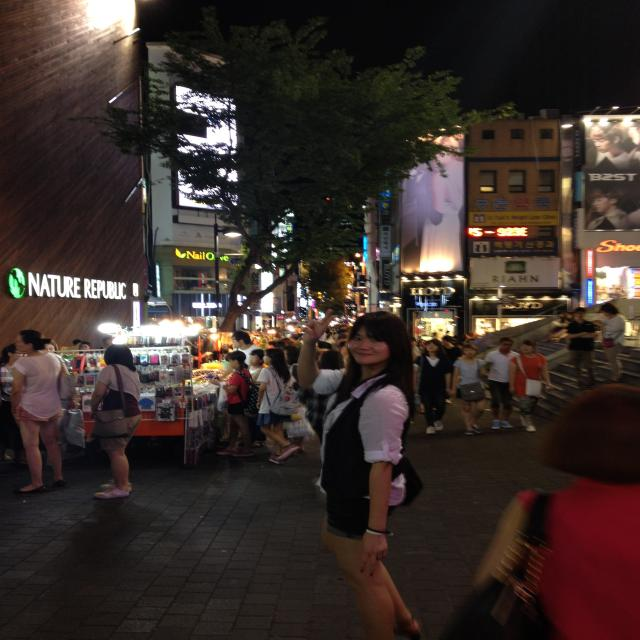body: (462, 382, 640, 640), (295, 305, 430, 640), (7, 328, 81, 496), (560, 118, 640, 229), (90, 343, 143, 501), (402, 134, 461, 273), (204, 350, 257, 458), (254, 347, 302, 465), (508, 339, 554, 434), (411, 337, 451, 436), (448, 342, 489, 436), (0, 341, 28, 465), (484, 337, 520, 429), (590, 301, 628, 386), (564, 306, 598, 387), (247, 348, 265, 448), (313, 320, 350, 368), (231, 330, 262, 366), (541, 310, 573, 344), (183, 334, 215, 368), (72, 337, 118, 353), (284, 325, 303, 362), (442, 330, 462, 360), (266, 324, 285, 347), (452, 331, 484, 342), (410, 338, 427, 357), (39, 338, 59, 354), (431, 331, 441, 337)
